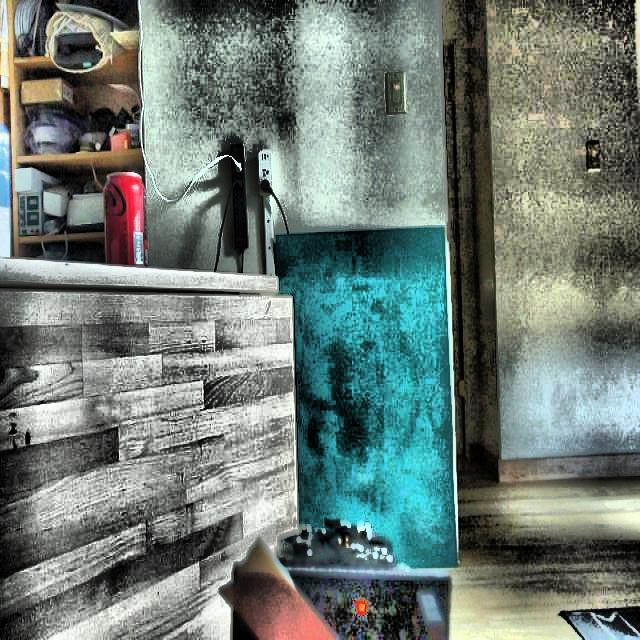CokeZero-can: (102, 170, 146, 268)
